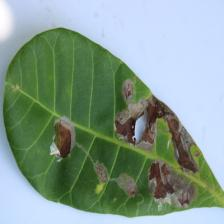leaf miner: (103, 70, 208, 175), (145, 156, 207, 211), (86, 155, 142, 205), (44, 118, 86, 168)
